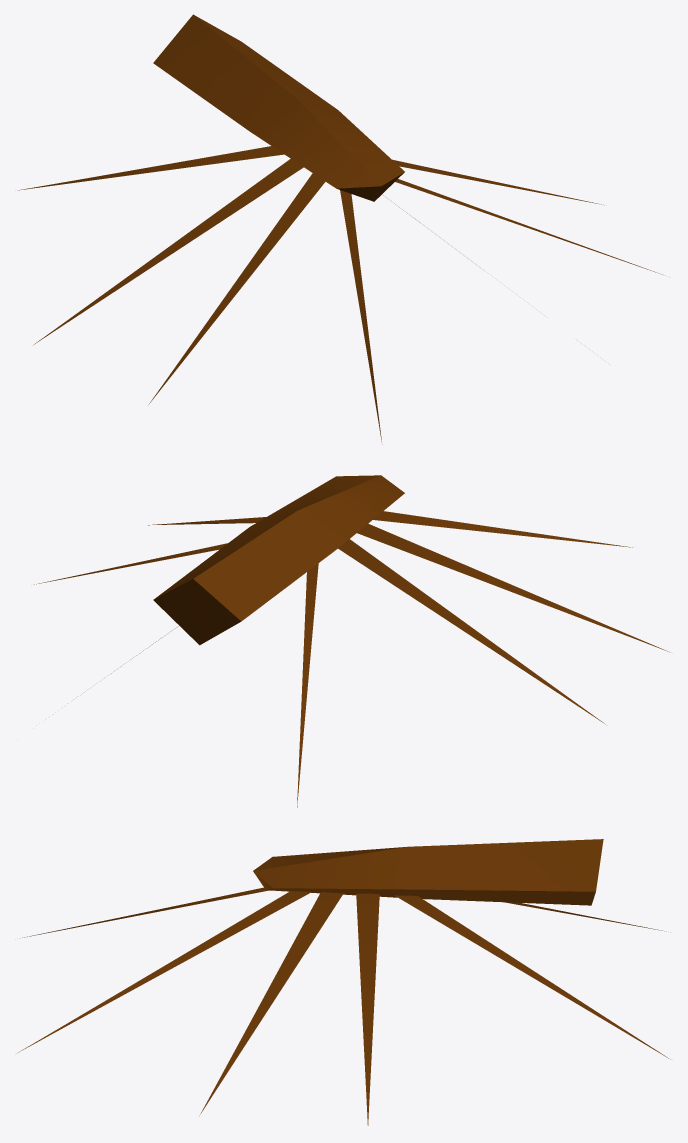
Rendered from SpiderLOD.obj.
3 renders of one model, top to bottom at view 1: azimuth 30°, elevation 25°; view 2: azimuth 150°, elevation 25°; view 3: azimuth 270°, elevation 25°, orthographic. The views are drawn at different scales.
Parts seen in each view (by area): view 1: pCube1.001, pPlane1.001, pPlane2.001, pPlane3.001, pPlane4.001; view 2: pCube1.001, pPlane1.001, pPlane2.001, pPlane4.001, pPlane3.001; view 3: pCube1.001, pPlane1.001, pPlane2.001, pPlane3.001, pPlane4.001.
Boxes of the visible parts, x1,y1,x2,y2 form: pCube1.001: (153,14,404,201); pPlane1.001: (34,159,604,344); pPlane2.001: (149,173,662,403); pPlane3.001: (340,190,419,444); pPlane4.001: (17,146,283,190); pCube1.001: (153,475,404,645); pPlane1.001: (34,539,605,724); pPlane2.001: (148,517,669,652); pPlane4.001: (111,563,318,807); pPlane3.001: (373,511,632,547); pCube1.001: (253,839,603,905); pPlane1.001: (356,893,379,1125); pPlane2.001: (199,892,343,1115); pPlane3.001: (18,887,311,1052); pPlane4.001: (394,895,670,1059).
Size of the model in its own units: 9.26 by 2.59 by 9.81.
